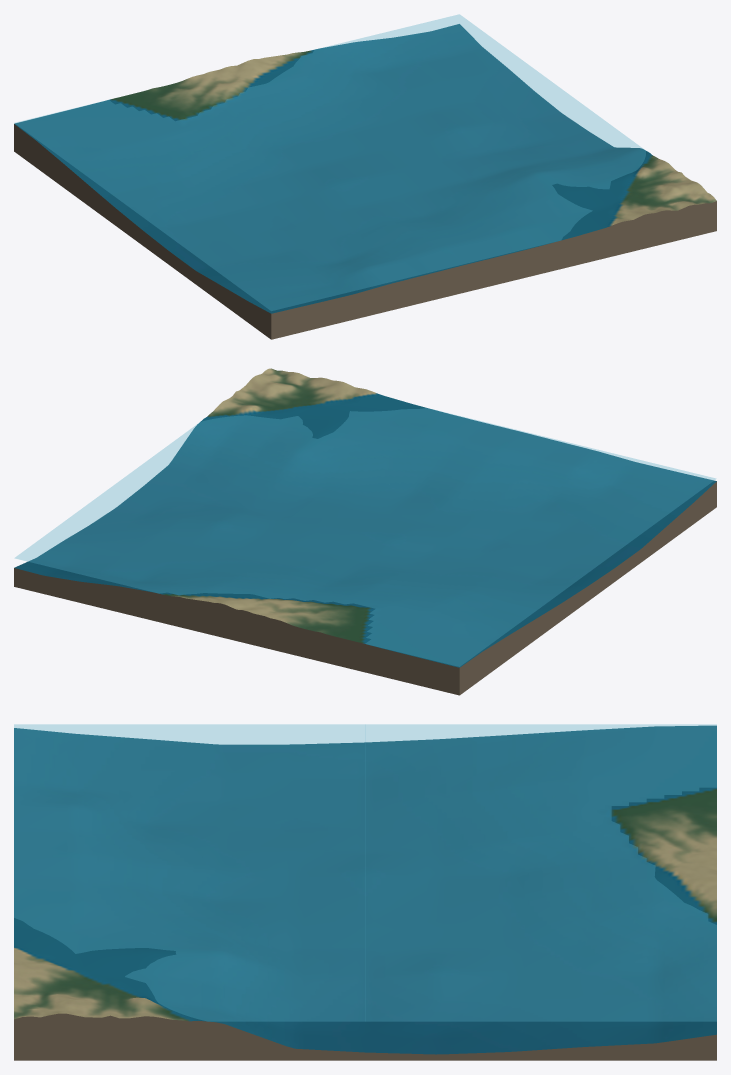
File: terrain3d-gibraltar.glb
3 views of the same model, one above another, from view 1: azimuth 30°, elevation 25°; view 2: azimuth 150°, elevation 25°; view 3: azimuth 270°, elevation 25° (orthographic). The views are drawn at different scales.
Visible parts, largest first — view 1: Measured elevation surface, Sea level, Opaque geographic crop sides; view 2: Measured elevation surface, Sea level, Opaque geographic crop sides; view 3: Measured elevation surface, Sea level, Opaque geographic crop sides.
Part boxes in pixels (box(x1,y1,x2,y2)): Measured elevation surface: box(14, 24, 716, 313); Sea level: box(15, 14, 645, 310); Opaque geographic crop sides: box(14, 124, 716, 339); Measured elevation surface: box(14, 368, 716, 667); Sea level: box(15, 408, 715, 666); Opaque geographic crop sides: box(14, 481, 716, 695); Measured elevation surface: box(14, 725, 716, 1054); Sea level: box(14, 724, 716, 1021); Opaque geographic crop sides: box(14, 1013, 716, 1060).
Bounding box in the file's own units: 18000 × 1322 × 18000.
3 materials, 1 textured.
